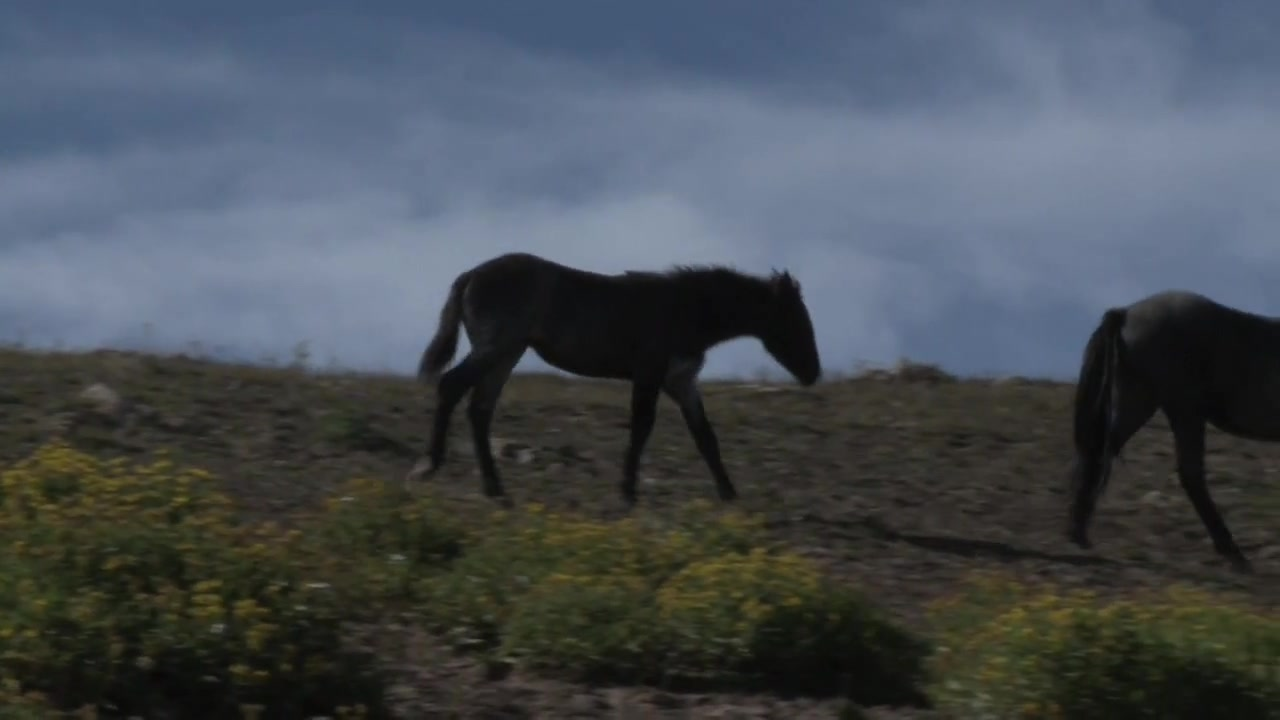horse: (407, 252, 825, 511), (1064, 289, 1280, 580)
